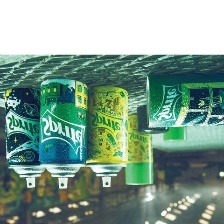aerosol_cans: (35, 73, 90, 191), (2, 84, 52, 191), (80, 83, 129, 190), (140, 70, 224, 132), (120, 112, 158, 188)
